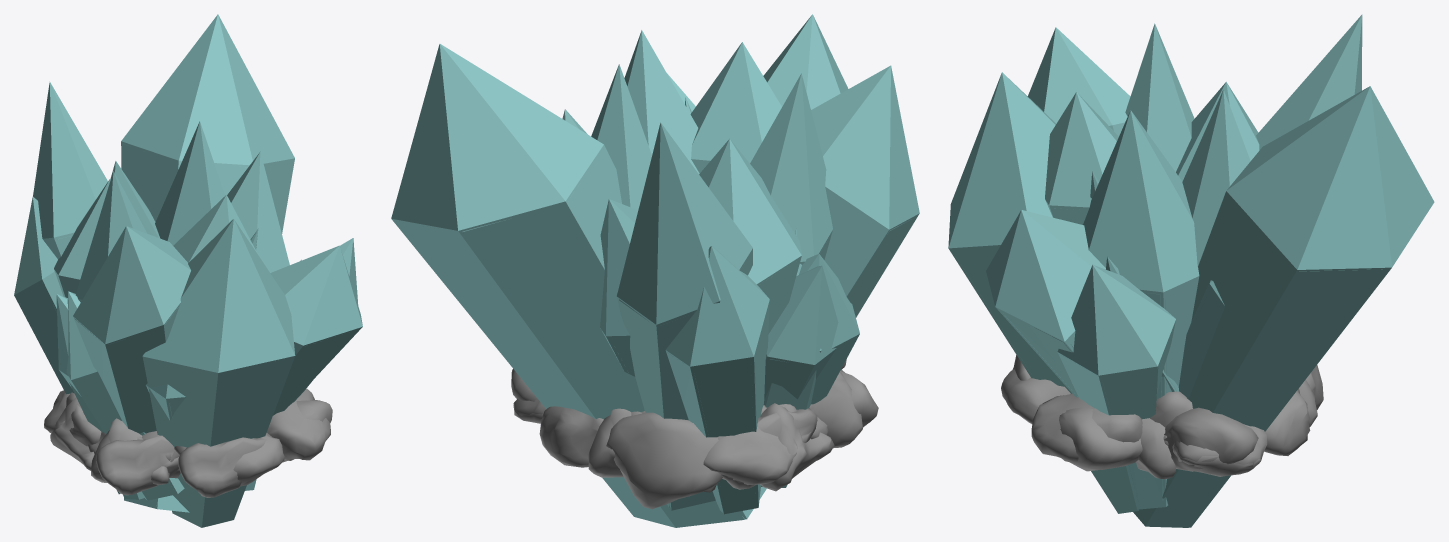
The model's file is Crystals.fbx.
3 renders of one model, left to right at view 1: azimuth 30°, elevation 25°; view 2: azimuth 150°, elevation 25°; view 3: azimuth 270°, elevation 25°, orthographic. The views are drawn at different scales.
Visible parts, largest first — view 1: crystal_2, crystal_2_bevel, crystal_5, crystal_1, crystal_4, rocks_2, rocks_3, crystal_1_bevel, crystal_3, crystal_4_bevel, crystal_6, crystal_3_bevel (+3 smaller); view 2: crystal_2, crystal_2_bevel, crystal_1, crystal_5, crystal_4, crystal_5_bevel, rocks_5, crystal_3, crystal_6, rocks_2, crystal_1_bevel, crystal_6_bevel (+4 smaller); view 3: crystal_2, crystal_2_bevel, crystal_4, crystal_3, crystal_5, crystal_3_bevel, rocks_2, crystal_1_bevel, crystal_6, rocks_3, crystal_5_bevel, rocks_5 (+4 smaller).
Boxes of the visible parts, left/top/right/bottom form: crystal_2: left=14, top=14, right=358, bottom=527; crystal_2_bevel: left=16, top=24, right=354, bottom=526; crystal_5: left=33, top=81, right=225, bottom=259; crystal_1: left=54, top=179, right=190, bottom=433; crystal_4: left=56, top=195, right=362, bottom=420; rocks_2: left=44, top=388, right=330, bottom=497; rocks_3: left=50, top=397, right=332, bottom=495; crystal_1_bevel: left=54, top=216, right=190, bottom=433; crystal_3: left=60, top=151, right=289, bottom=499; crystal_4_bevel: left=66, top=204, right=358, bottom=417; crystal_6: left=75, top=171, right=301, bottom=301; crystal_3_bevel: left=73, top=167, right=287, bottom=498; crystal_2: left=391, top=14, right=859, bottom=527; crystal_2_bevel: left=394, top=22, right=856, bottom=527; crystal_1: left=699, top=65, right=919, bottom=334; crystal_5: left=591, top=64, right=752, bottom=510; crystal_4: left=667, top=42, right=838, bottom=399; crystal_5_bevel: left=592, top=83, right=746, bottom=509; rocks_5: left=539, top=404, right=828, bottom=509; crystal_3: left=600, top=30, right=821, bottom=487; crystal_6: left=685, top=73, right=832, bottom=264; rocks_2: left=511, top=359, right=862, bottom=484; crystal_1_bevel: left=700, top=72, right=914, bottom=308; crystal_6_bevel: left=768, top=93, right=831, bottom=259; crystal_2: left=948, top=72, right=1434, bottom=527; crystal_2_bevel: left=950, top=80, right=1432, bottom=527; crystal_4: left=986, top=92, right=1224, bottom=397; crystal_3: left=1083, top=110, right=1199, bottom=509; crystal_5: left=1182, top=14, right=1362, bottom=266; crystal_3_bevel: left=1085, top=125, right=1198, bottom=507; rocks_2: left=1012, top=355, right=1258, bottom=472; crystal_1_bevel: left=1028, top=35, right=1259, bottom=391; crystal_6: left=1090, top=23, right=1194, bottom=274; rocks_3: left=1001, top=369, right=1168, bottom=471; crystal_5_bevel: left=1183, top=31, right=1350, bottom=262; rocks_5: left=1150, top=365, right=1323, bottom=455.
Size of the model in its own units: 3.12 by 4.14 by 3.74.
